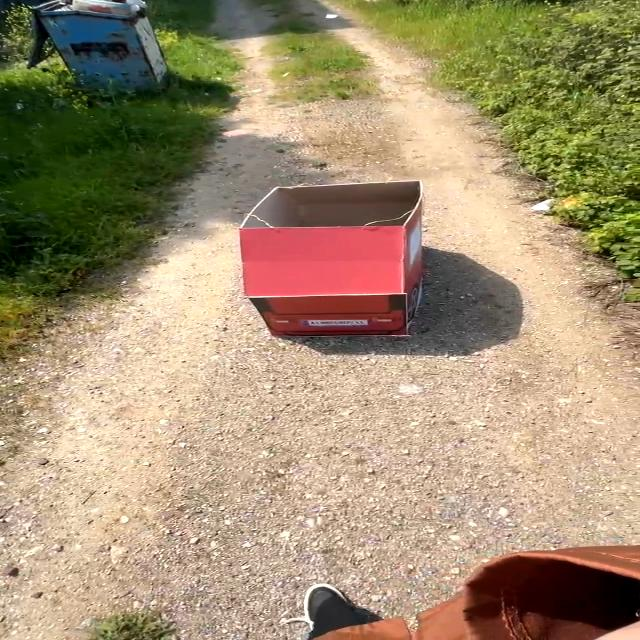red_car: (226, 166, 452, 357)
